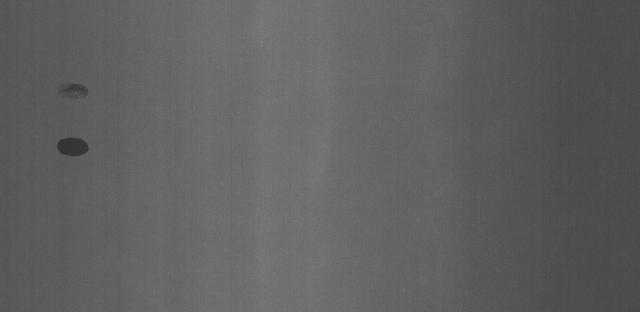oil_spot: (54, 133, 94, 159), (57, 79, 92, 102)
